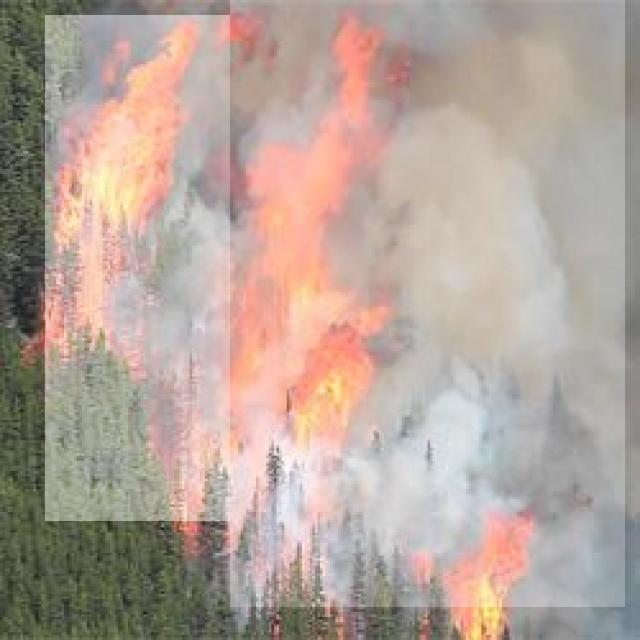Fire: (45, 15, 367, 521)
Smoke: (230, 0, 625, 607)
